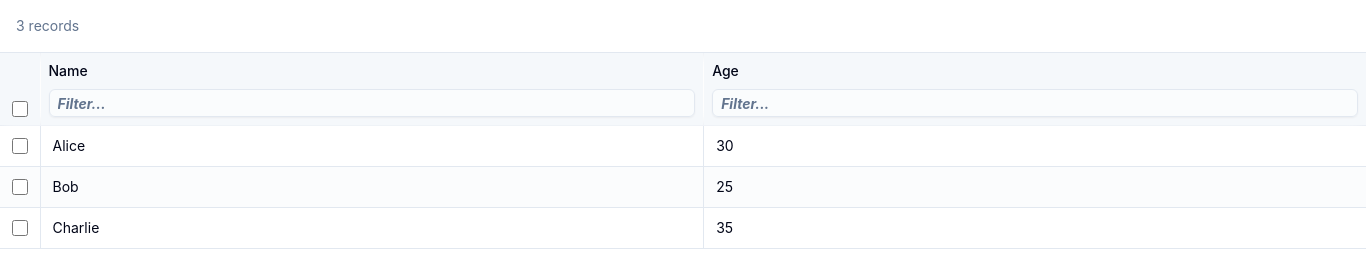
Test: DataTable › filters data using text input
Type "Alice" into the 1st field with placeholder "Filter..." at x=372, y=103, box [48, 89, 695, 117]
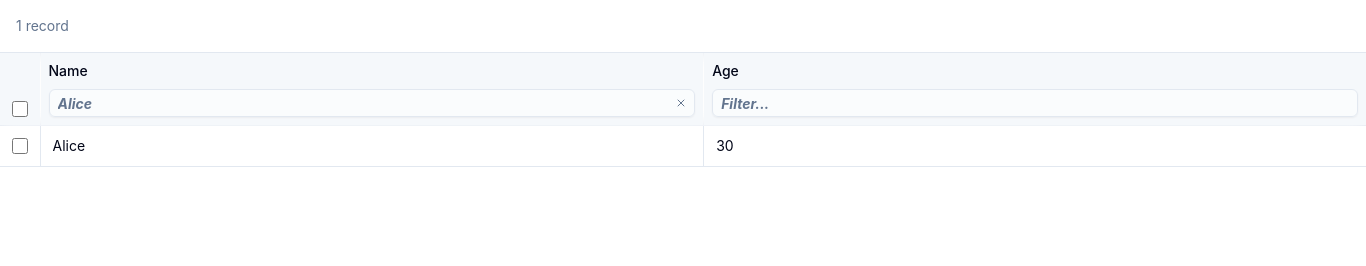
Expected: the text "Alice" is shown, [52, 137, 85, 154]
Now the text "Bob" is gone
Now the text "1 record" is shown, box [16, 16, 69, 36]
